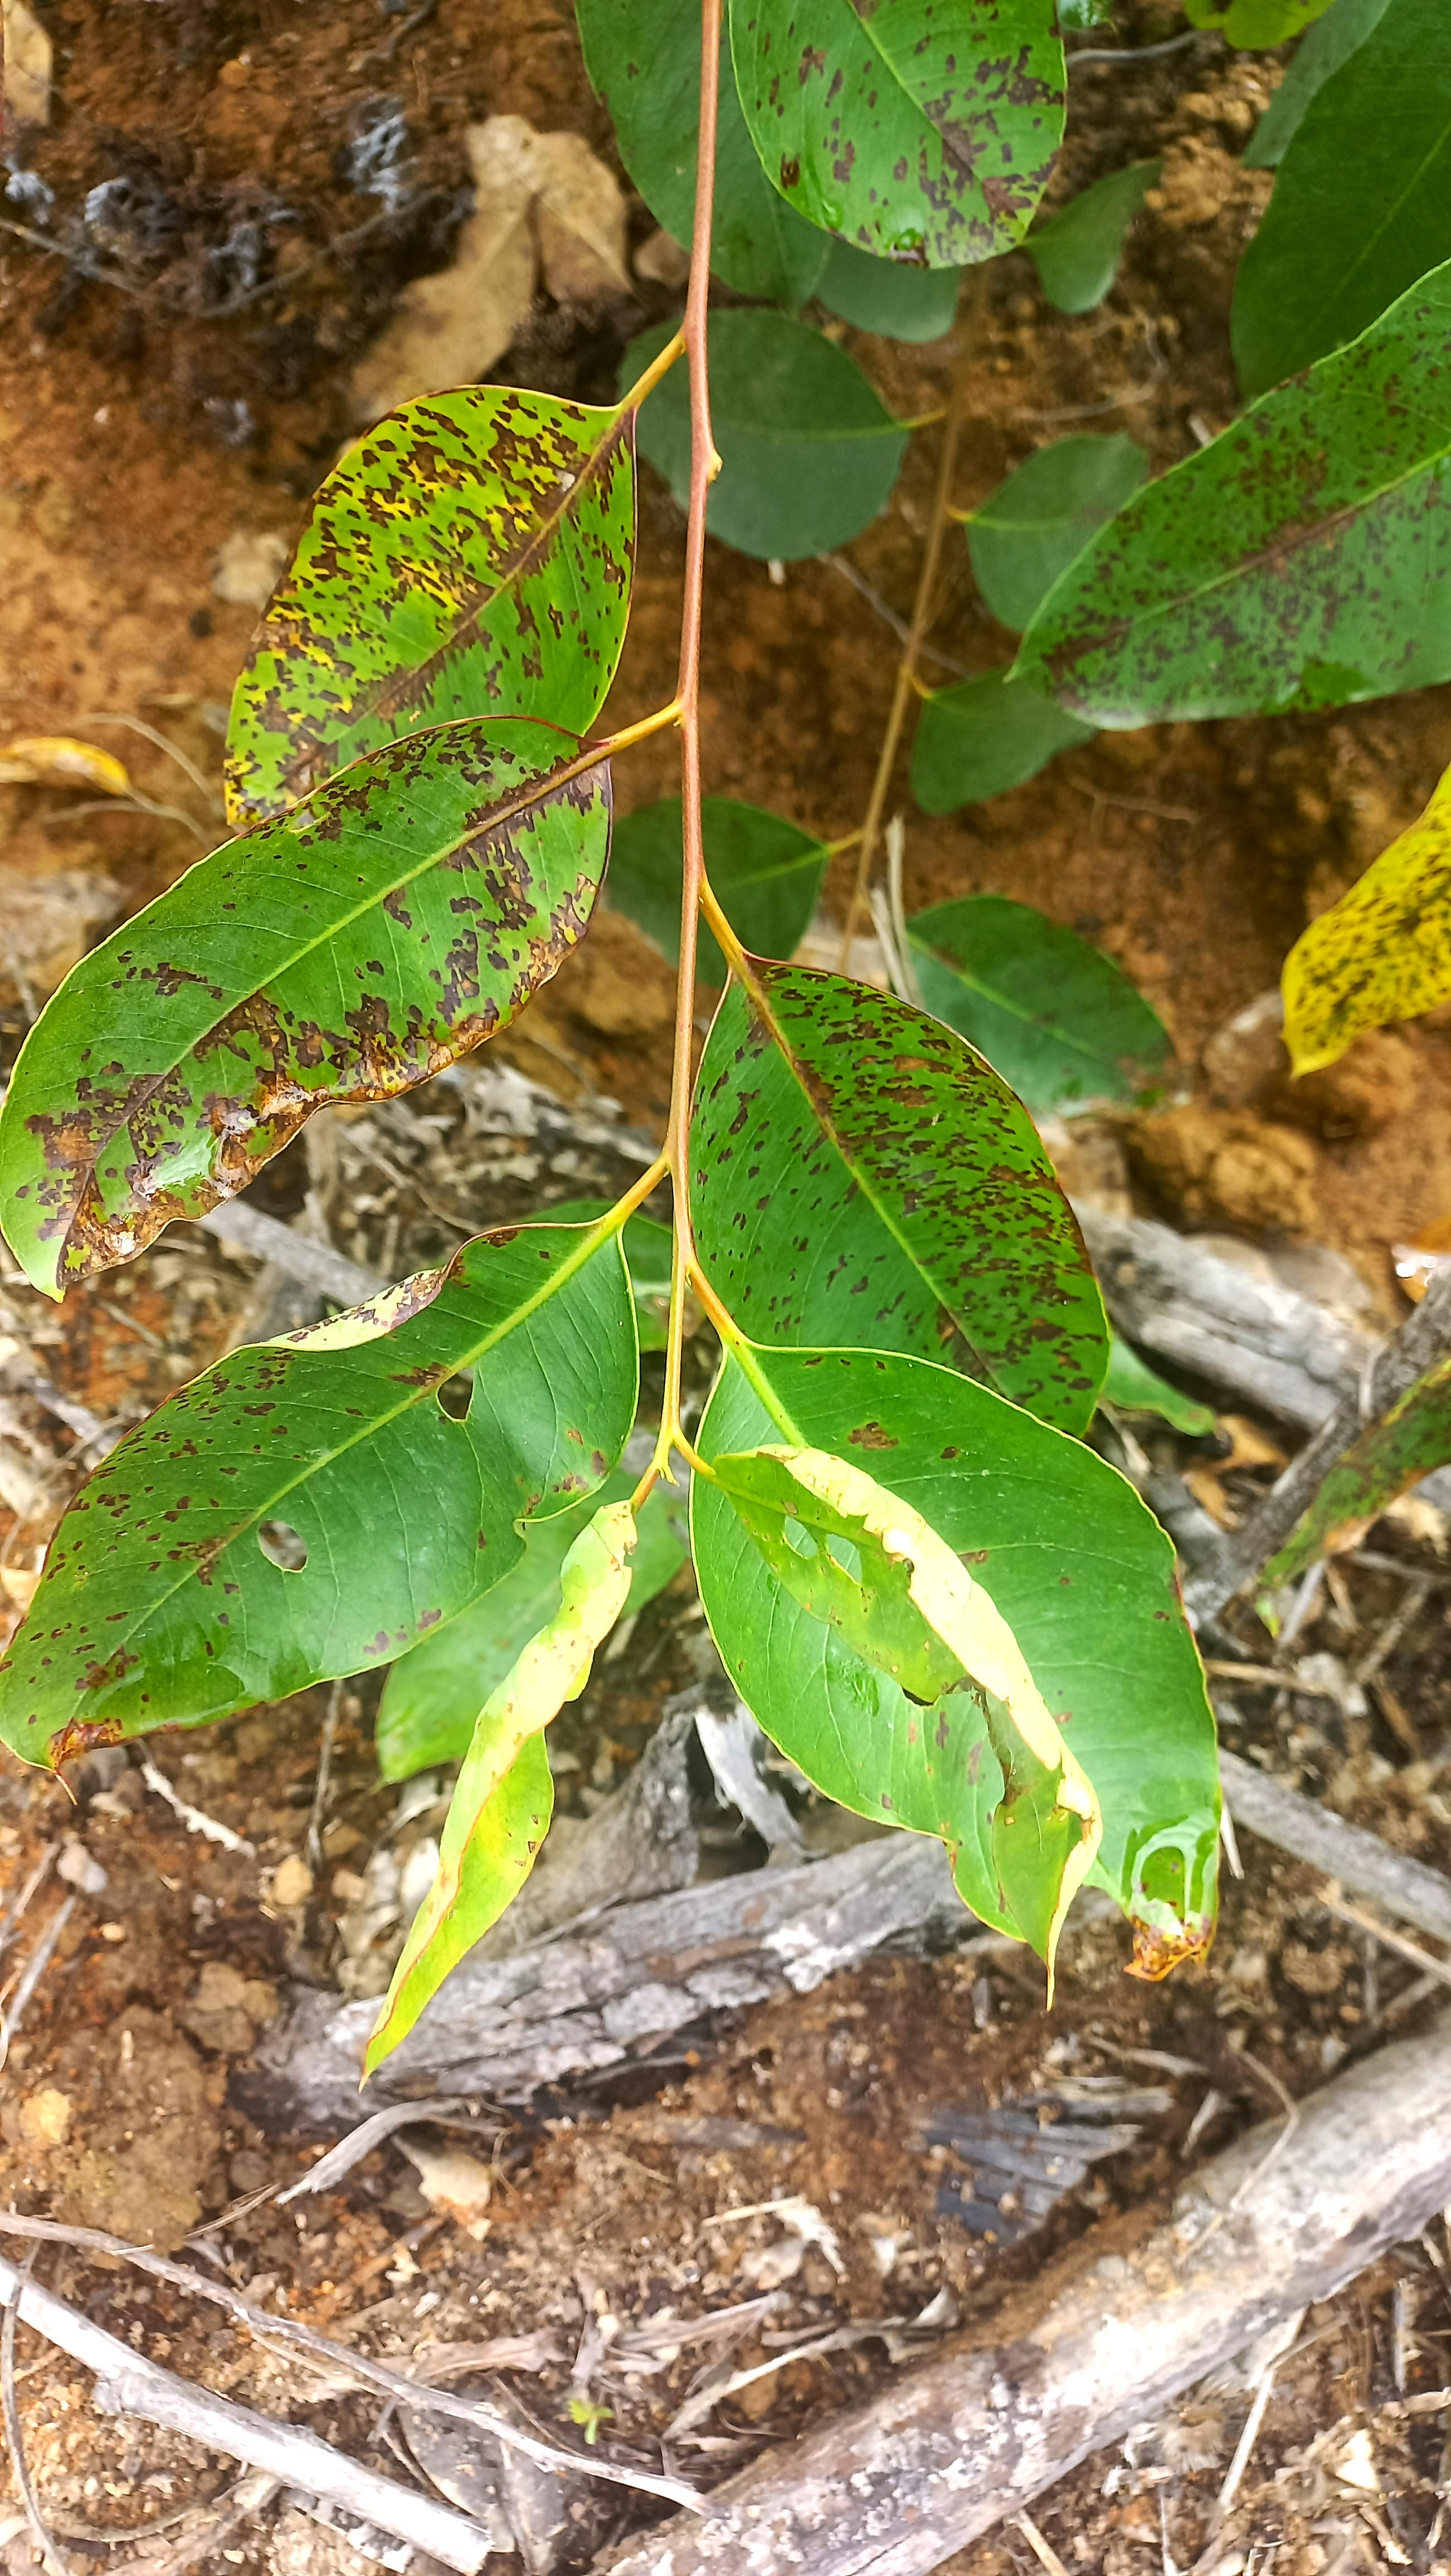Xanthomonas: (25, 855, 577, 1214), (226, 377, 658, 809), (1076, 272, 1447, 757), (674, 934, 1065, 1373), (763, 0, 1058, 269)
